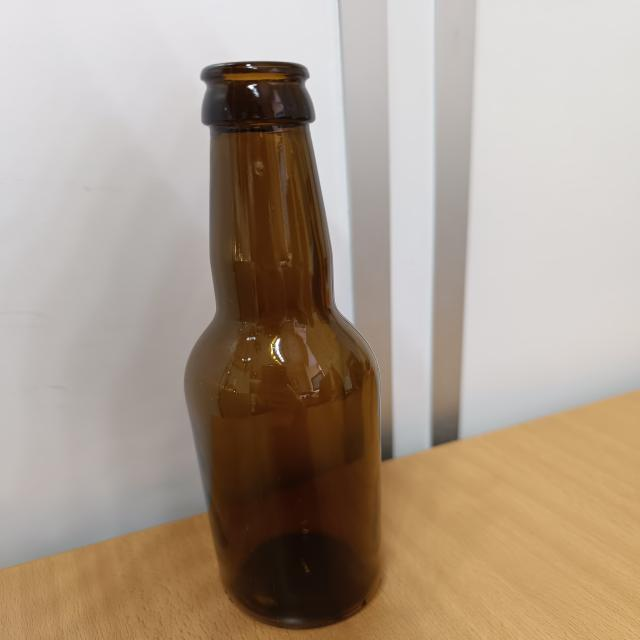Bottle: (180, 58, 383, 629)
